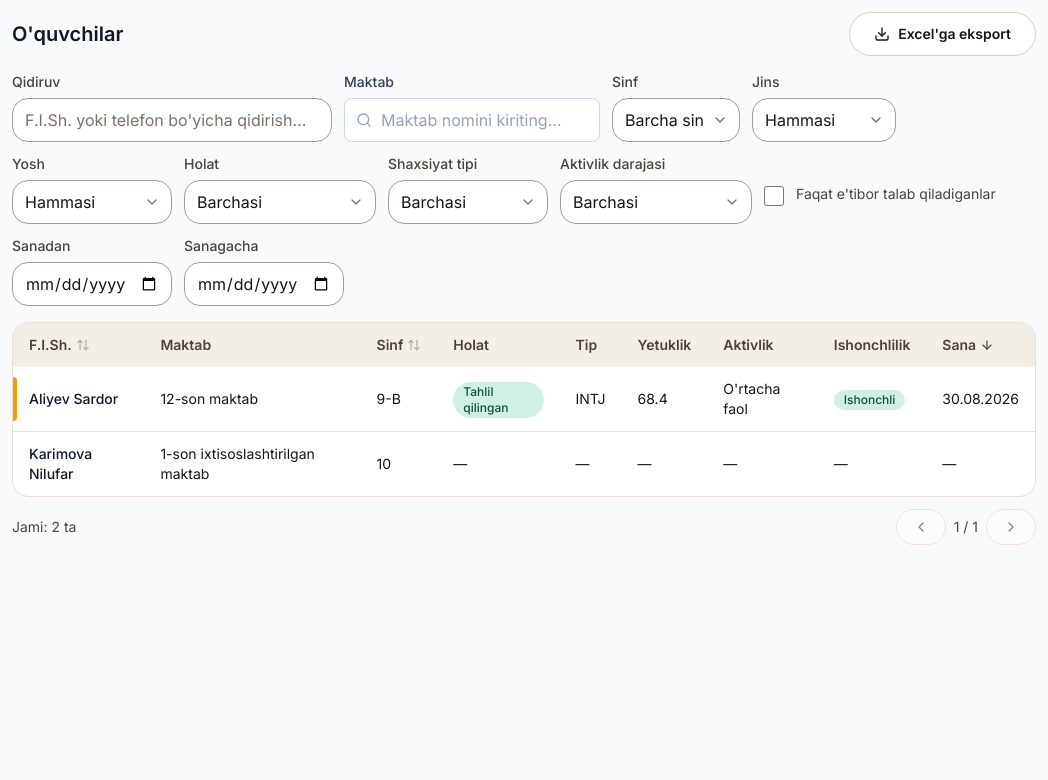
Test: StudentsPage › "Sinf" ustuni sarlavhasiga bosilganda saralash URL'ga yoziladi (grade)
Expected: the text "Aliyev Sardor" is shown, [29, 389, 118, 409]
Click the button "Sinf".
click(399, 345)  # box [377, 335, 421, 355]
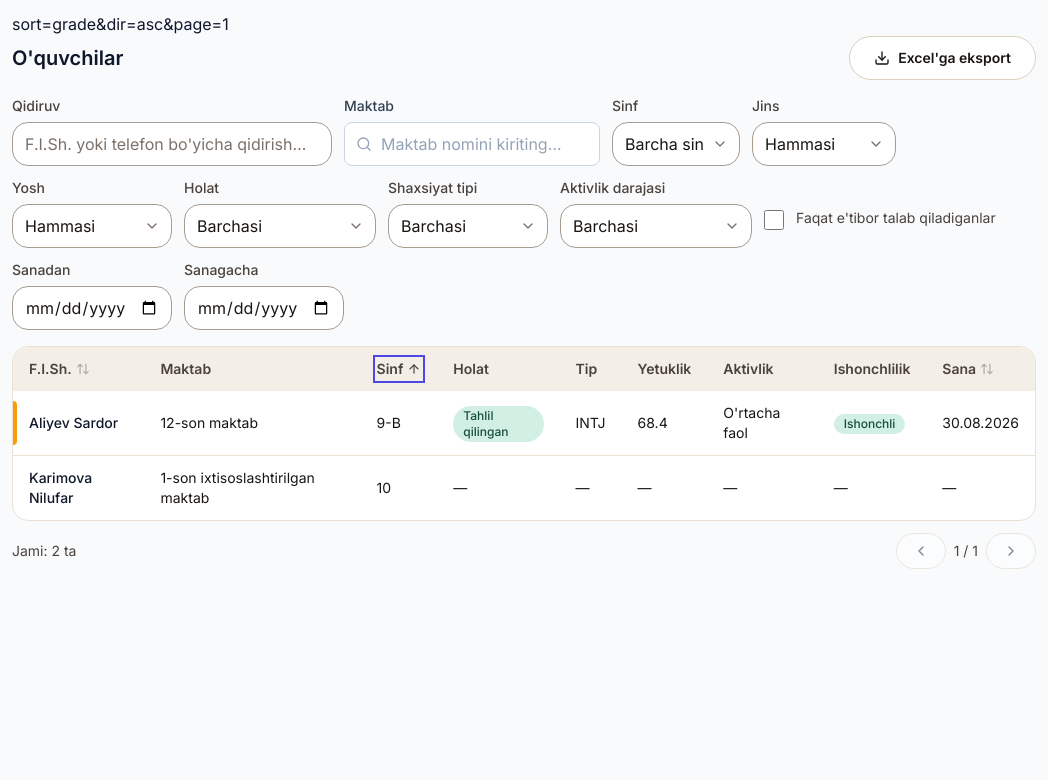
Expected: the text with test id "url-probe" shows "sort=grade", [12, 14, 229, 34]
Expected: the text with test id "url-probe" shows "dir=asc", [12, 14, 229, 34]
Click the button "Sinf".
click(399, 369)  # box [377, 359, 421, 379]
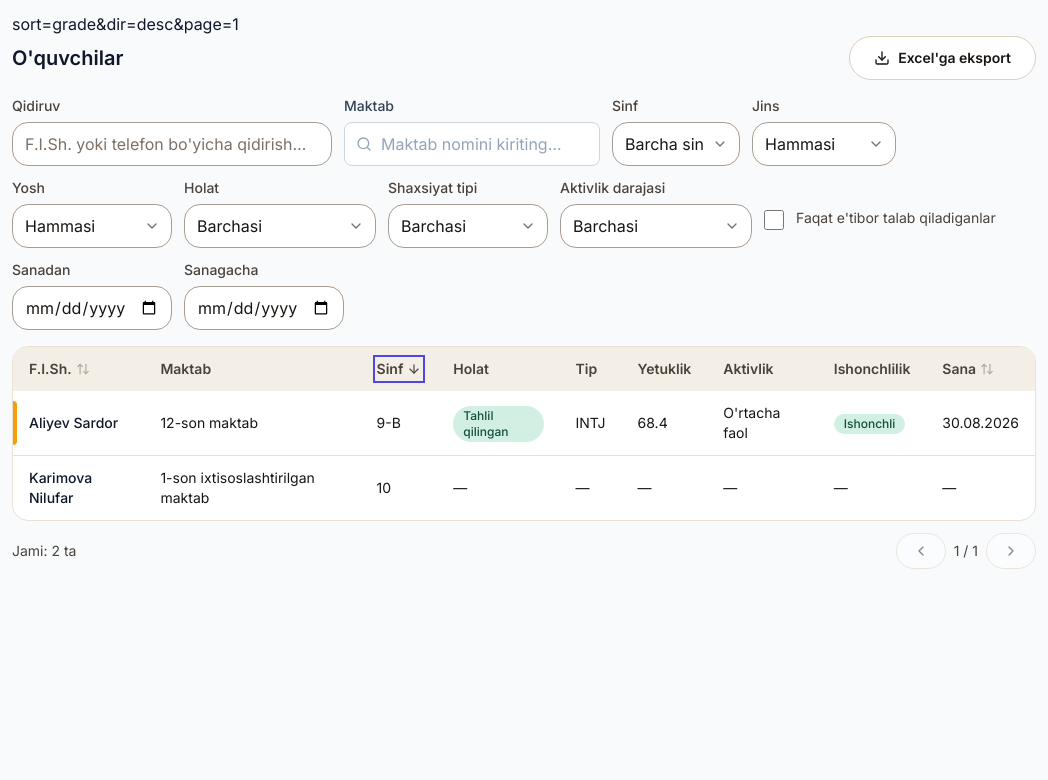
Expected: the text with test id "url-probe" shows "sort=grade", [12, 14, 239, 34]
Expected: the text with test id "url-probe" shows "dir=desc", [12, 14, 239, 34]
